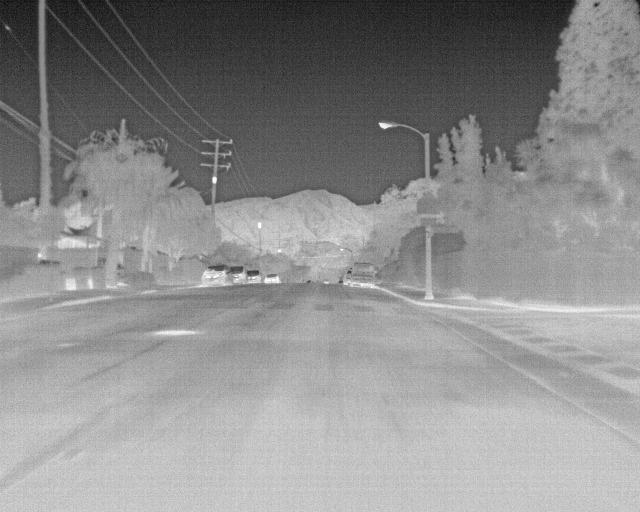car: (349, 259, 377, 287), (198, 262, 230, 283), (222, 265, 246, 283), (240, 268, 260, 283), (260, 272, 280, 285)
